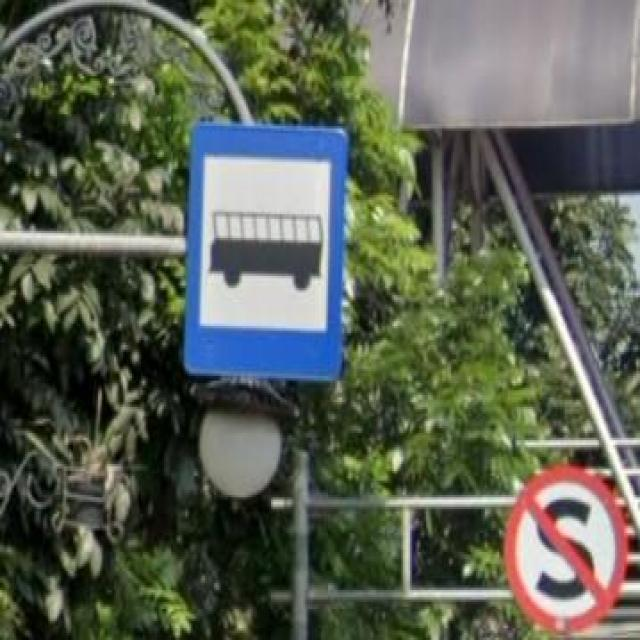traffic sign: (180, 124, 350, 378)
